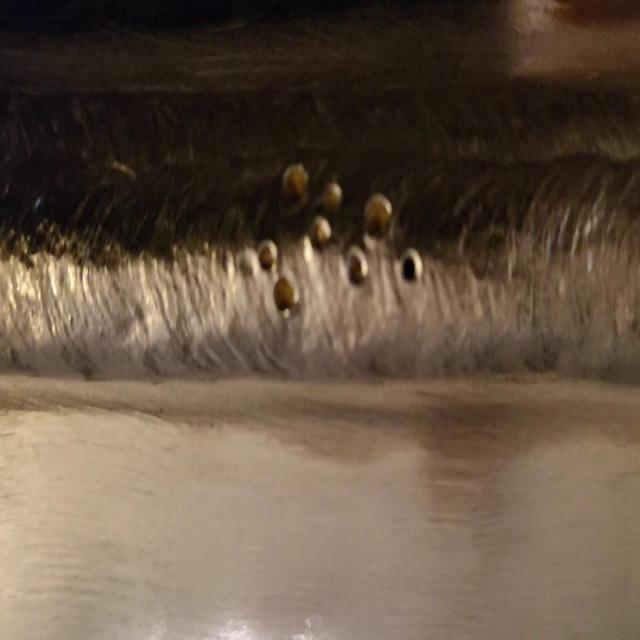Welding Line: (2, 90, 640, 378)
porosity: (238, 160, 421, 314)
